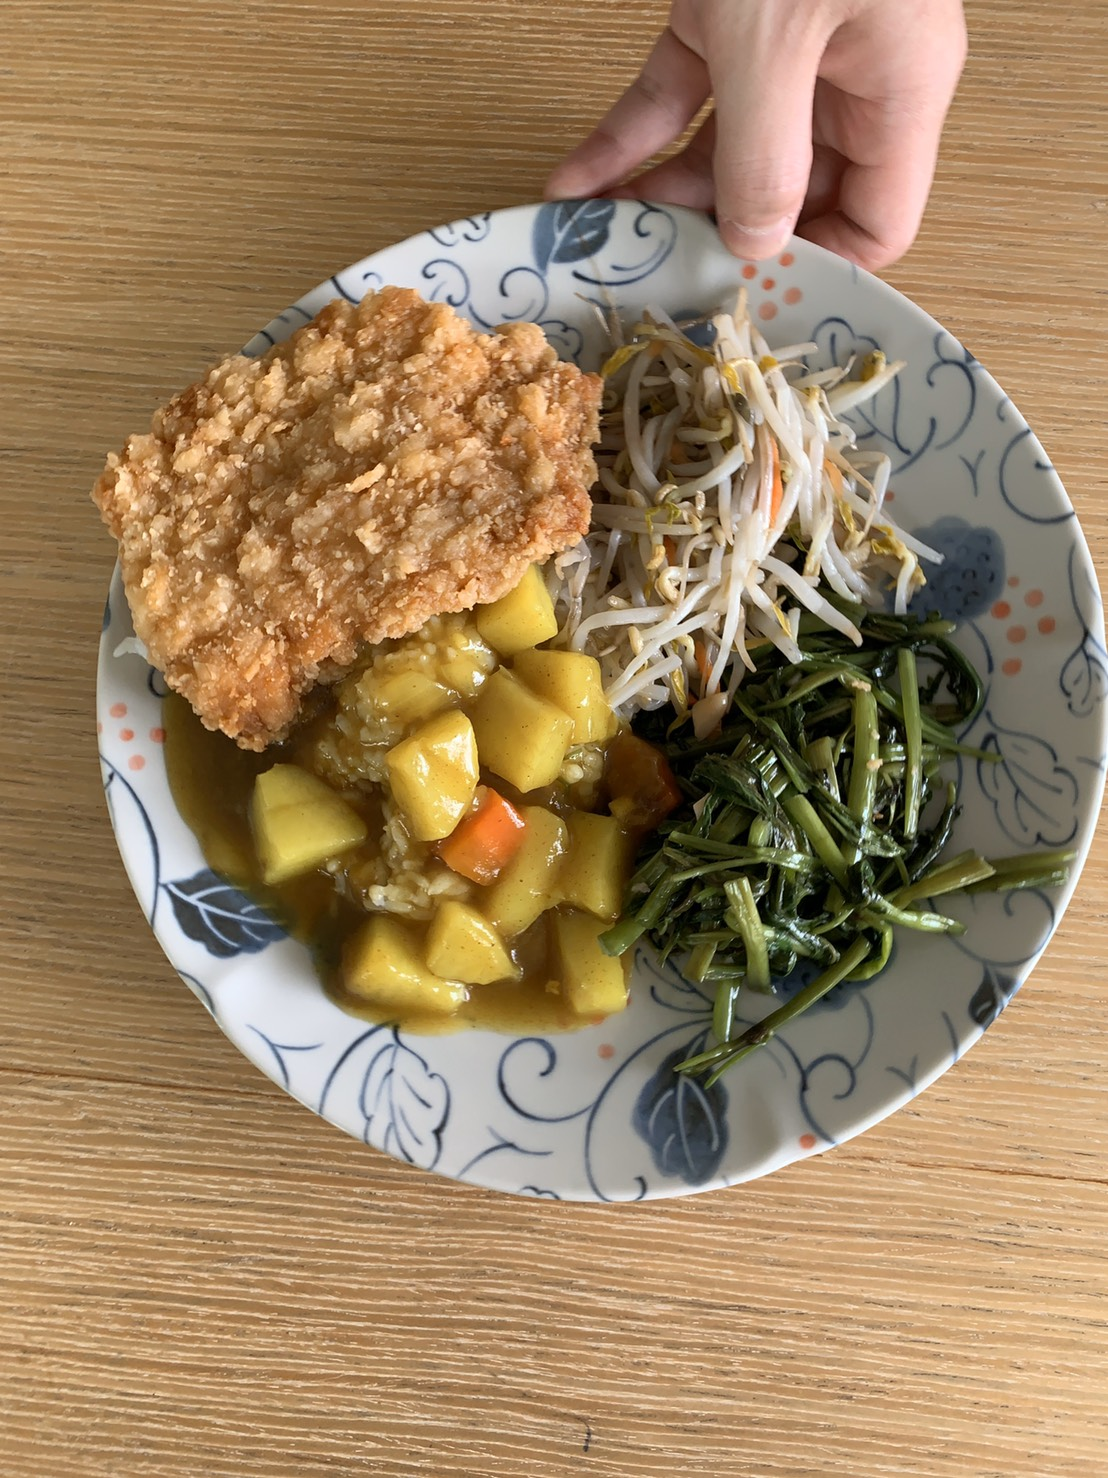curry: (333, 659, 609, 988)
fried_chicken: (109, 293, 582, 688)
mung_bean_sprouts: (613, 324, 883, 624)
water_spinach: (686, 682, 958, 974)
